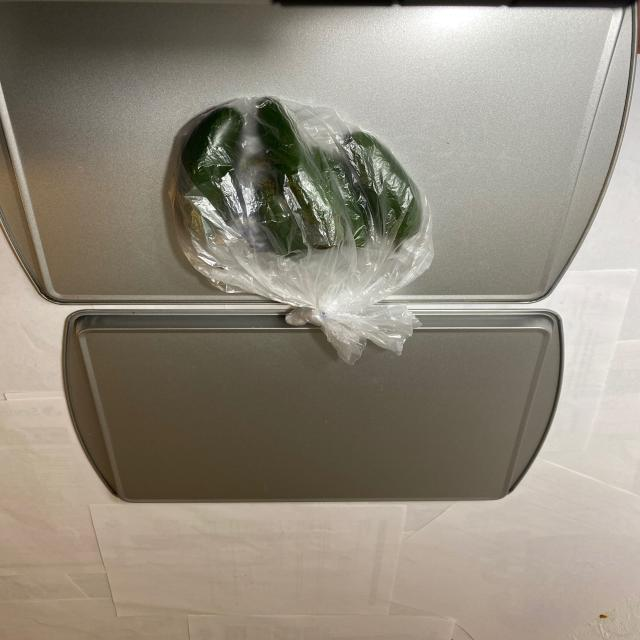chilli: (162, 99, 436, 311)
